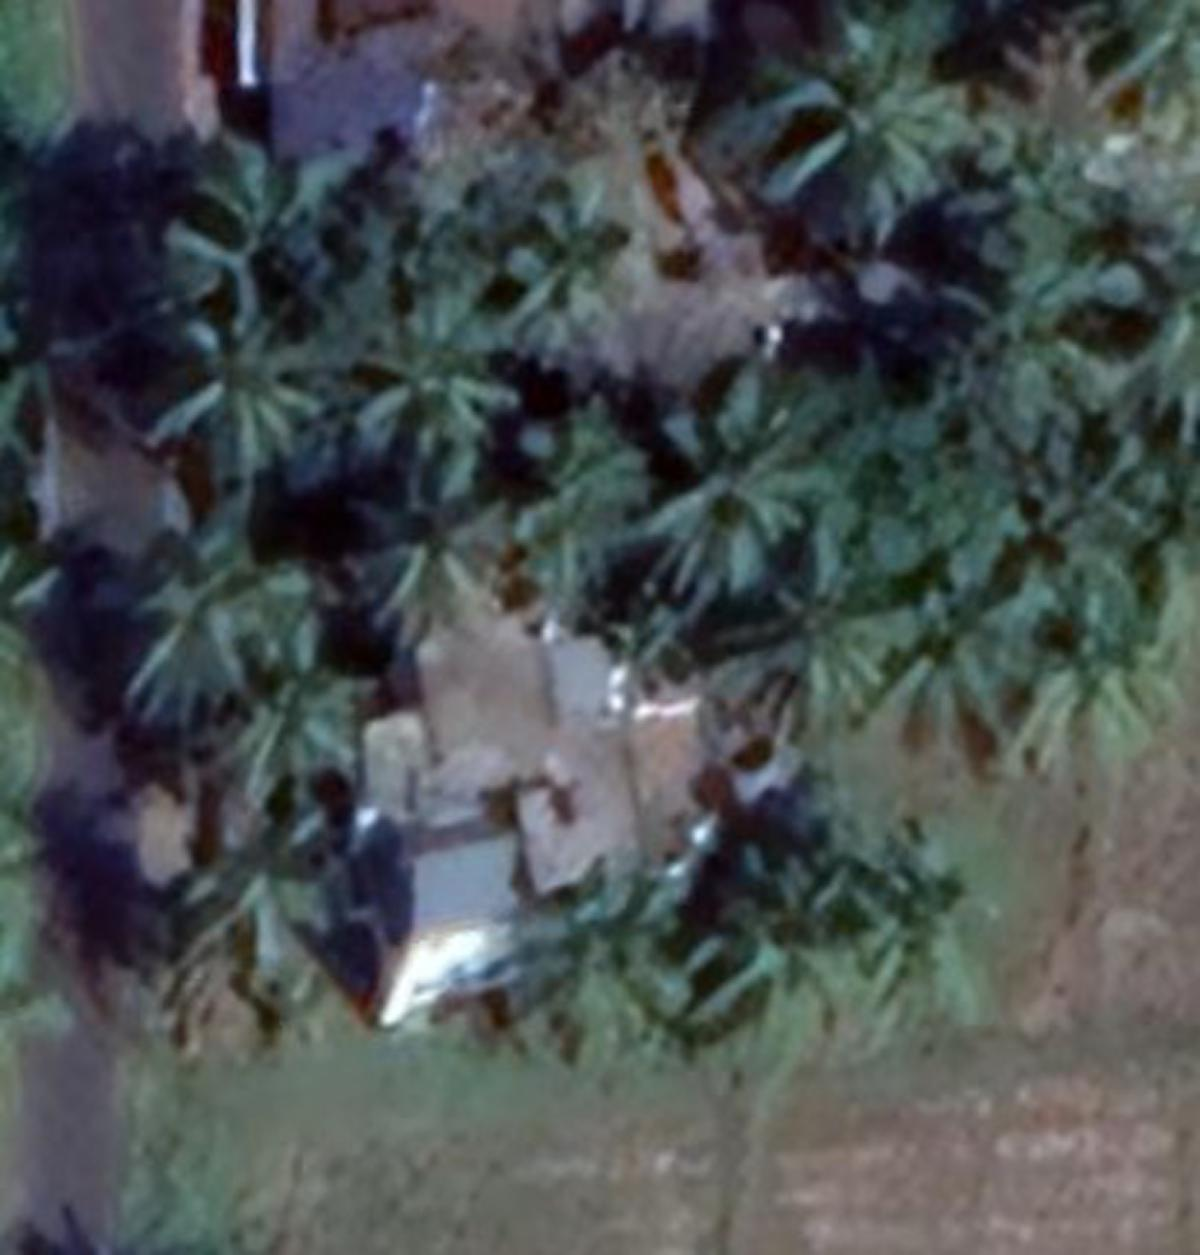coconut: (745, 43, 958, 253), (827, 556, 1036, 759), (131, 305, 320, 486), (166, 806, 346, 984), (658, 393, 832, 573), (122, 521, 294, 695), (180, 666, 387, 809), (352, 288, 530, 441), (687, 867, 859, 1022), (503, 183, 652, 343), (352, 477, 503, 627)
